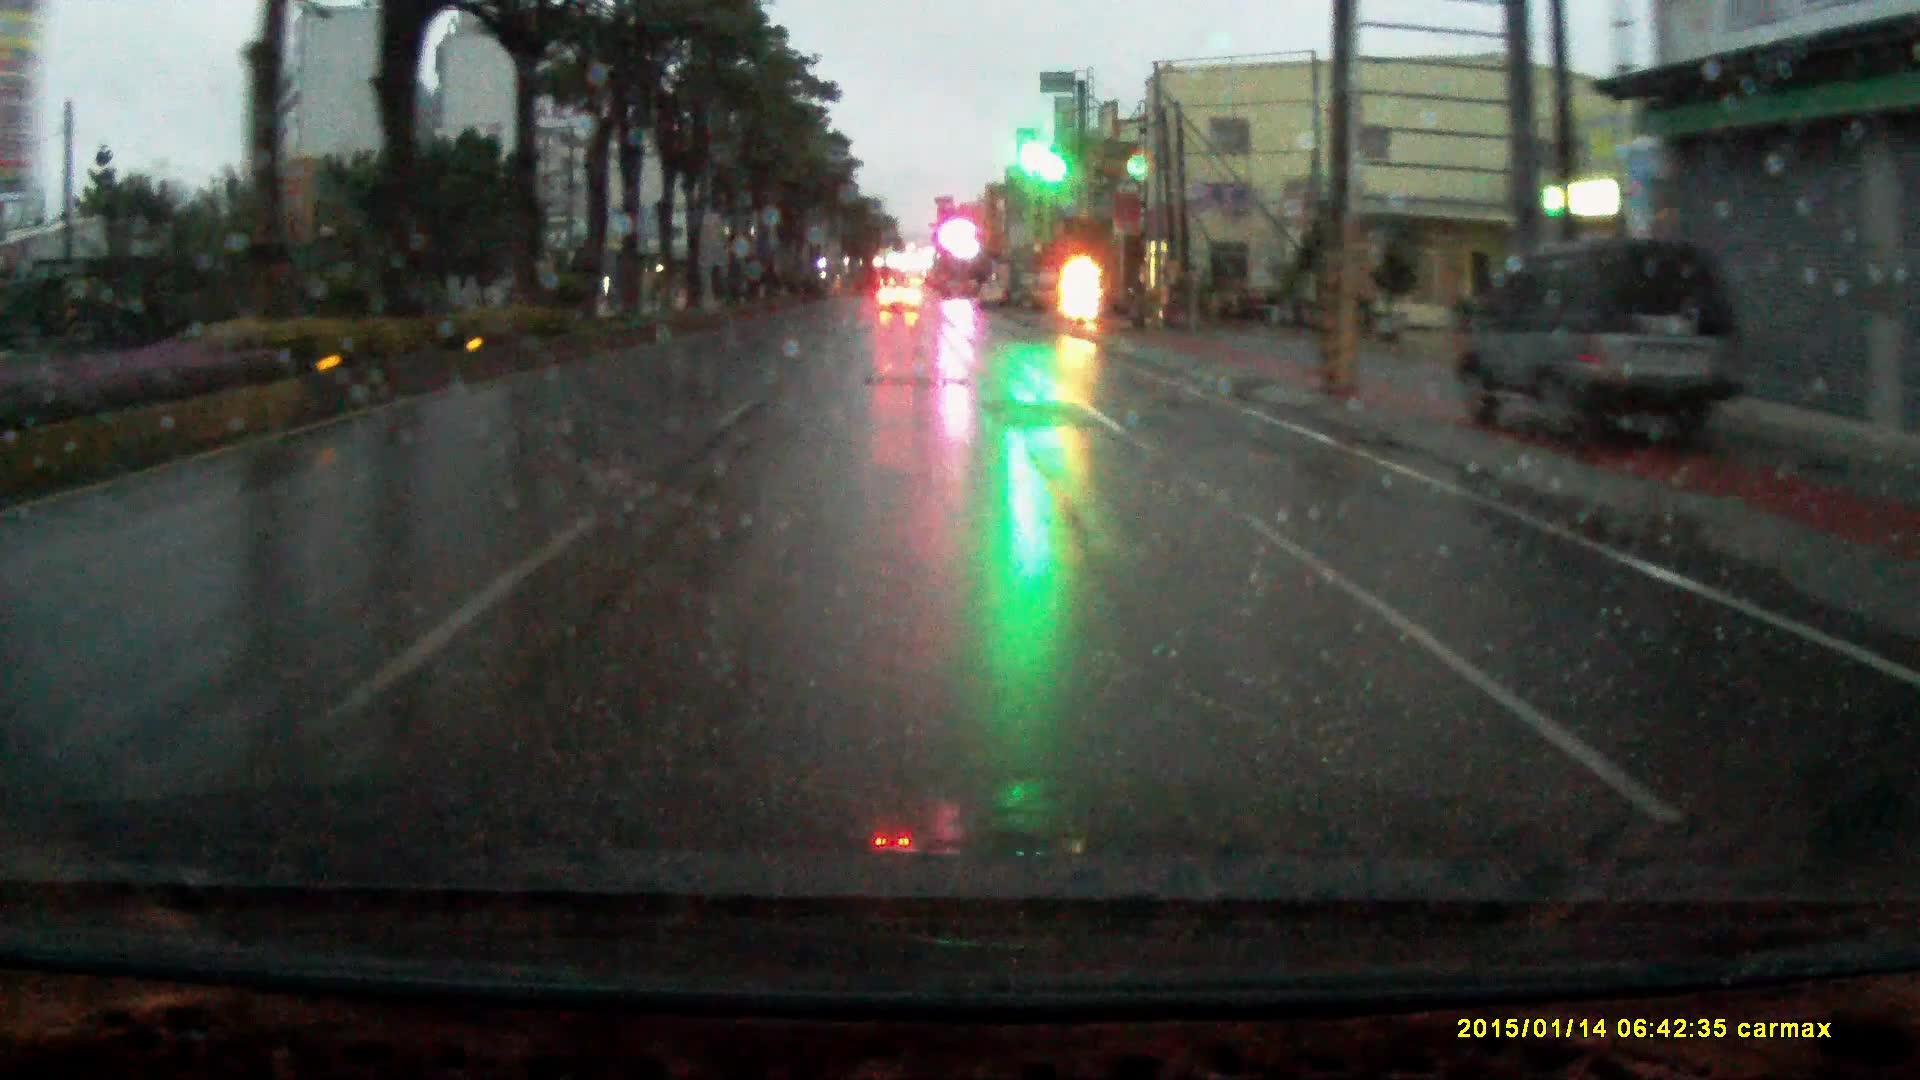vehicle: (1470, 231, 1753, 455), (1011, 287, 1073, 328), (877, 281, 923, 316)
